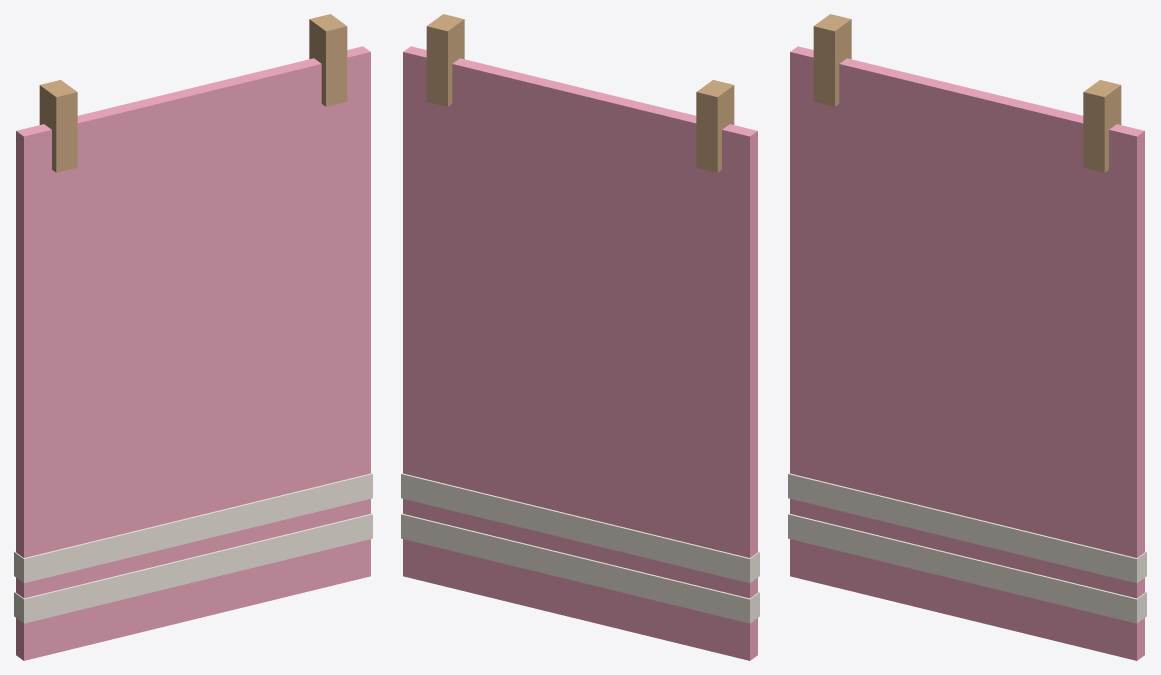
File: laundry_towel.glb
The picture shows the model from 3 angles, left to right: view 1: azimuth 30°, elevation 25°; view 2: azimuth 150°, elevation 25°; view 3: azimuth 330°, elevation 25°; orthographic projection.
Parts seen in each view (by area): view 1: laundry_towel; view 2: laundry_towel; view 3: laundry_towel.
Part boxes in pixels (x1,y1,x2,y2): laundry_towel: (14,14,372,660); laundry_towel: (401,14,759,660); laundry_towel: (788,14,1146,660).
Bounding box in the file's own units: 0.362 × 0.5555 × 0.03.
